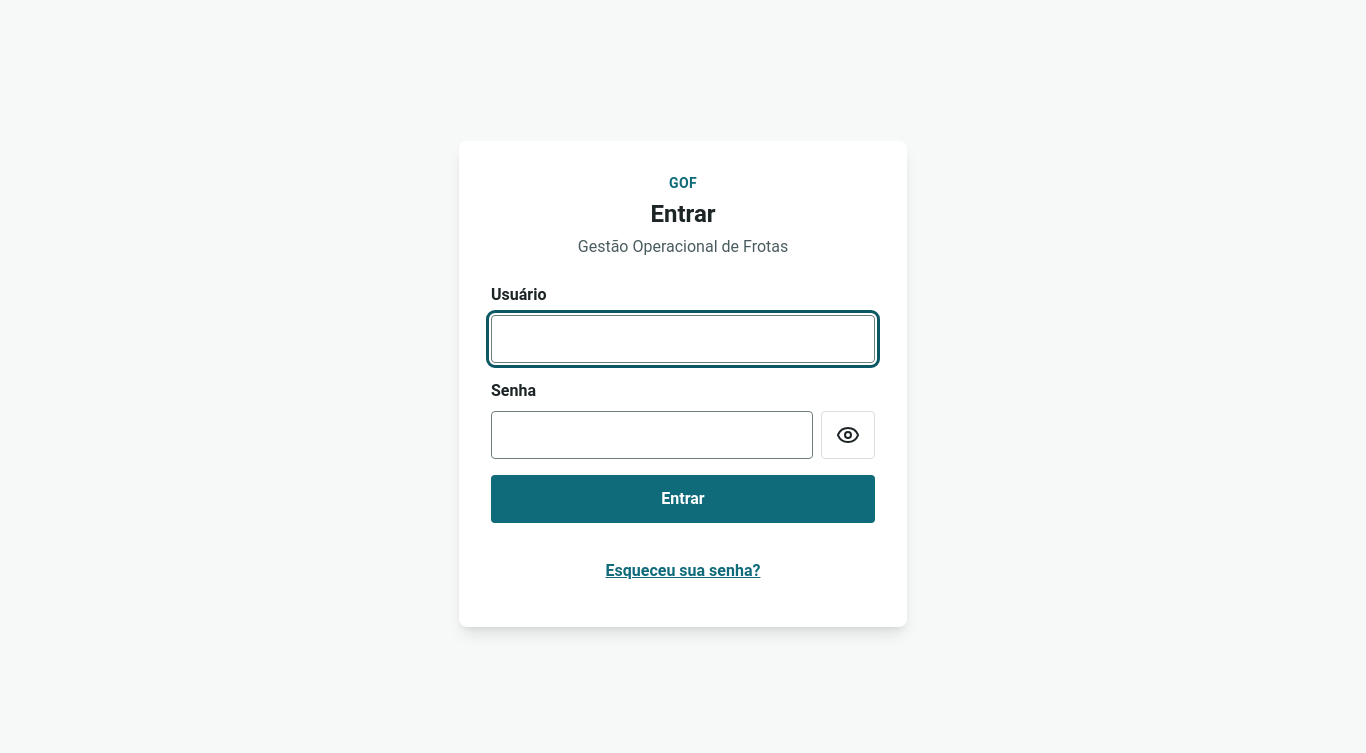
Test: Login › respeita next relativo
Step 1. Type "anasouza" into the field labelled "Usuário" → (683, 339), box [491, 315, 875, 363]
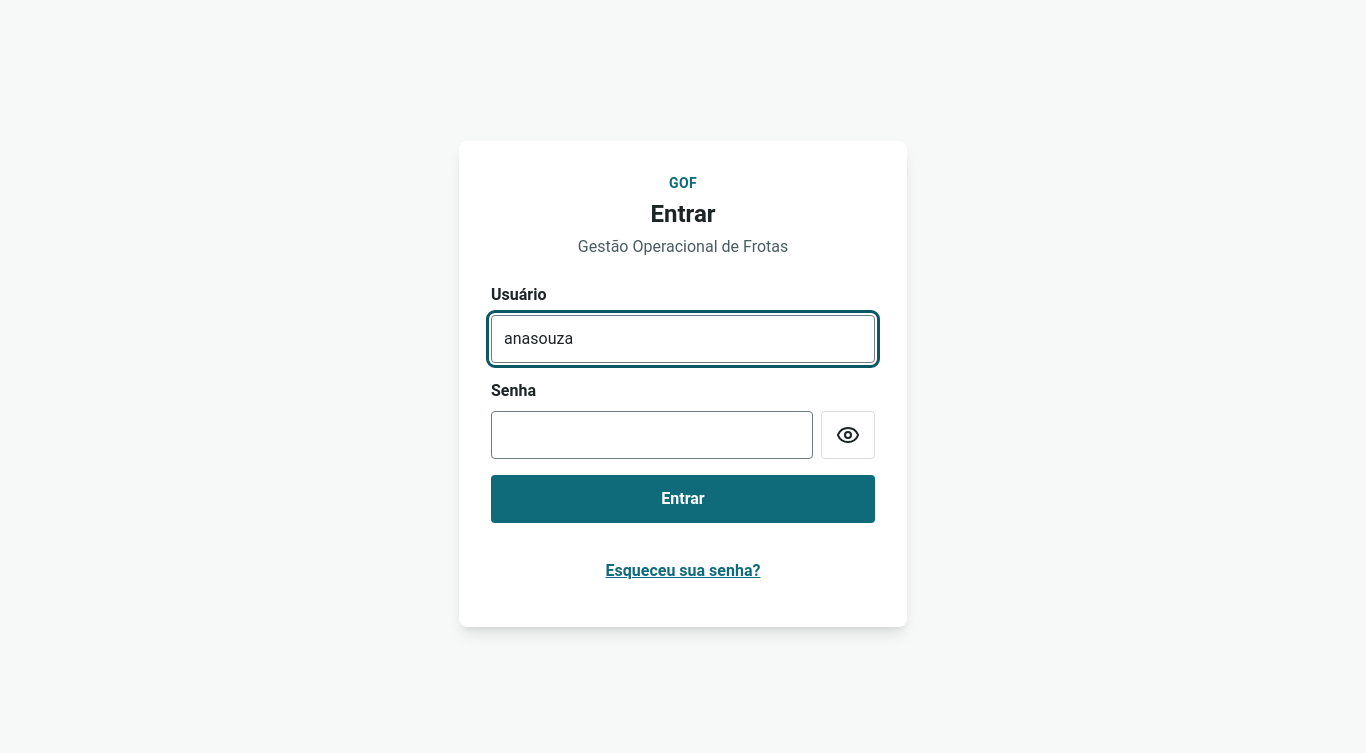
Step 2. Type "senha-correta" into the password field labelled "Senha" → (652, 435), box [491, 411, 813, 459]
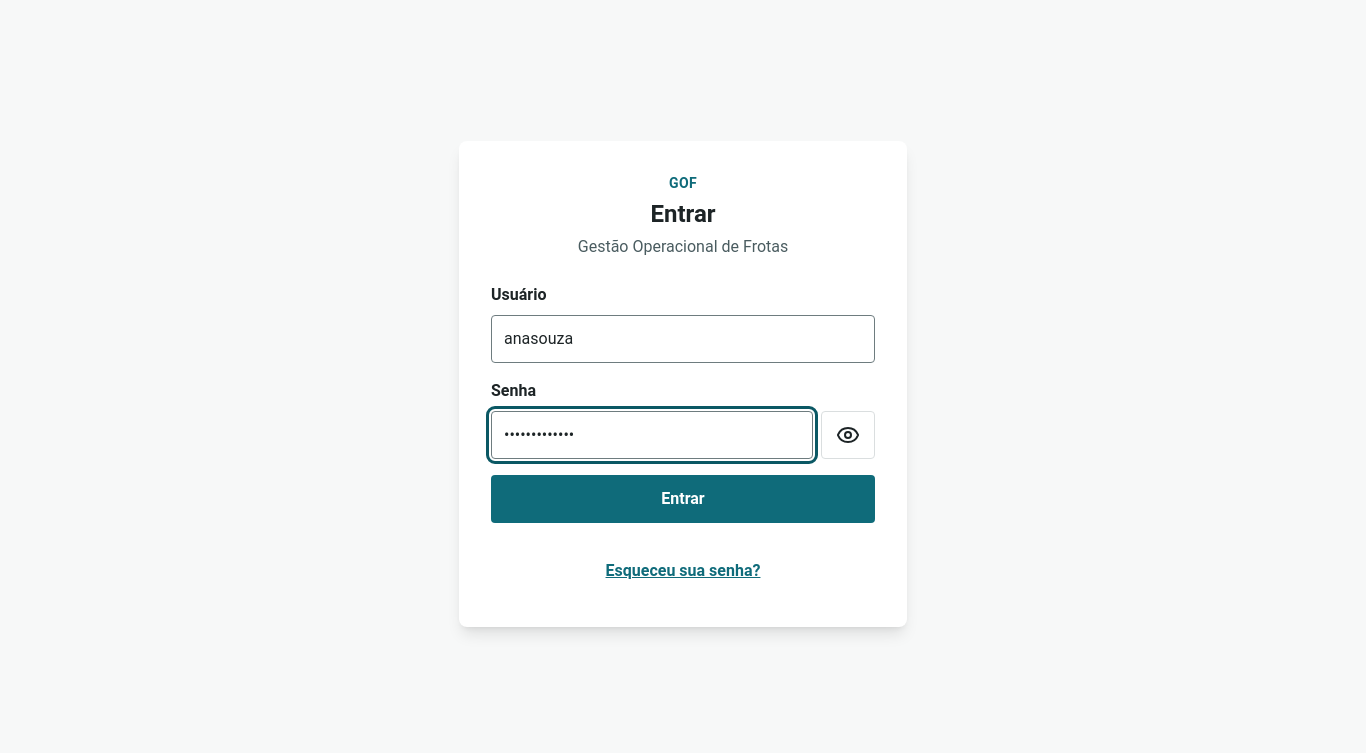
Step 3. Click the button "Entrar" → (683, 499), box [491, 475, 875, 523]
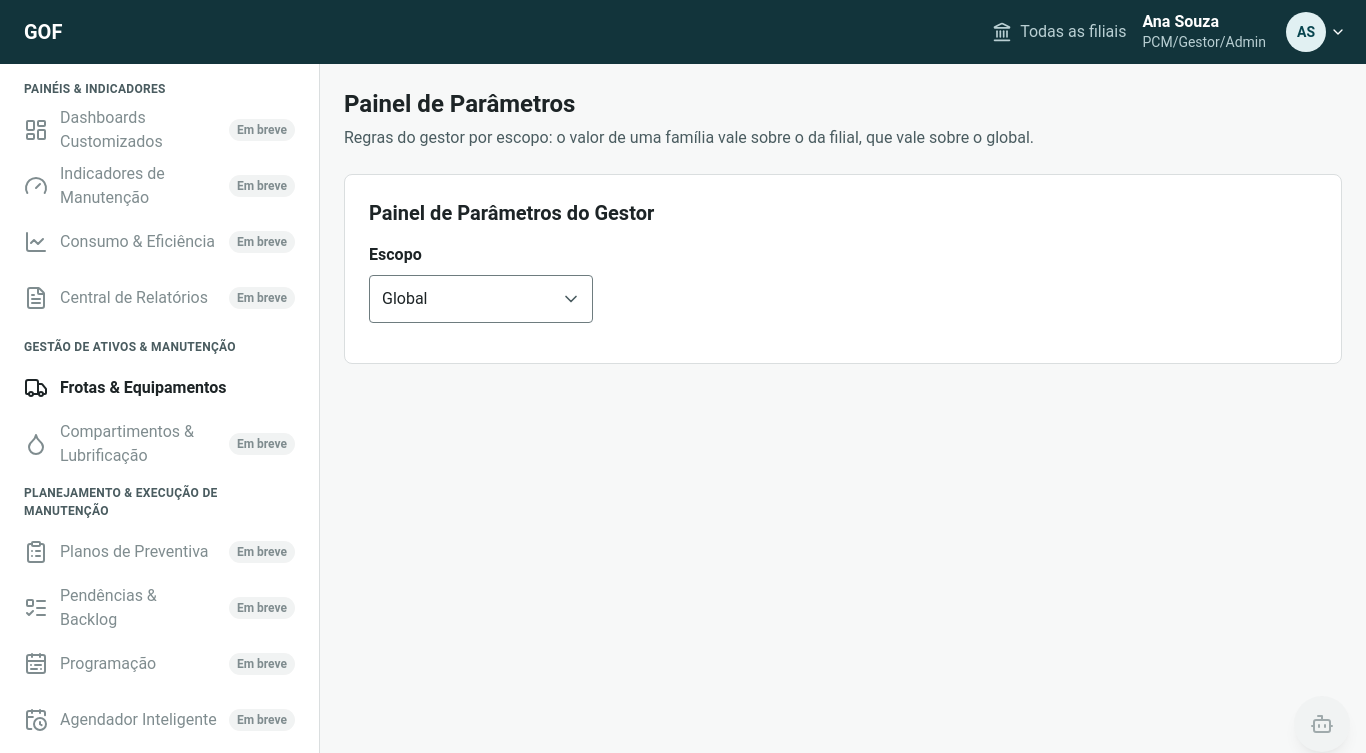
Now the heading "Painel de Parâmetros" is shown, box [344, 90, 576, 118]
